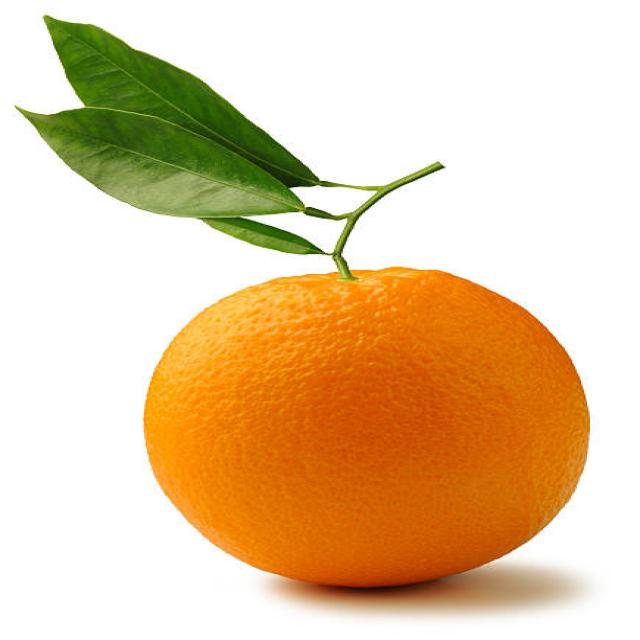orange: (144, 268, 590, 588)
